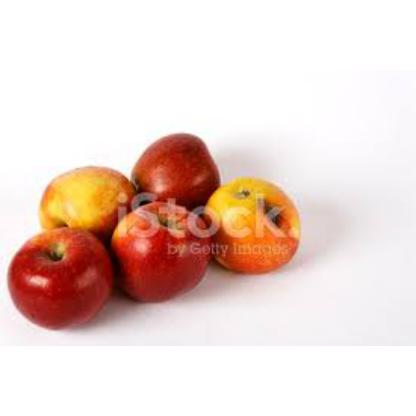apple: (10, 231, 108, 333), (113, 204, 211, 300), (134, 130, 226, 208), (44, 168, 124, 236)
damaged_apple: (206, 176, 308, 268)
